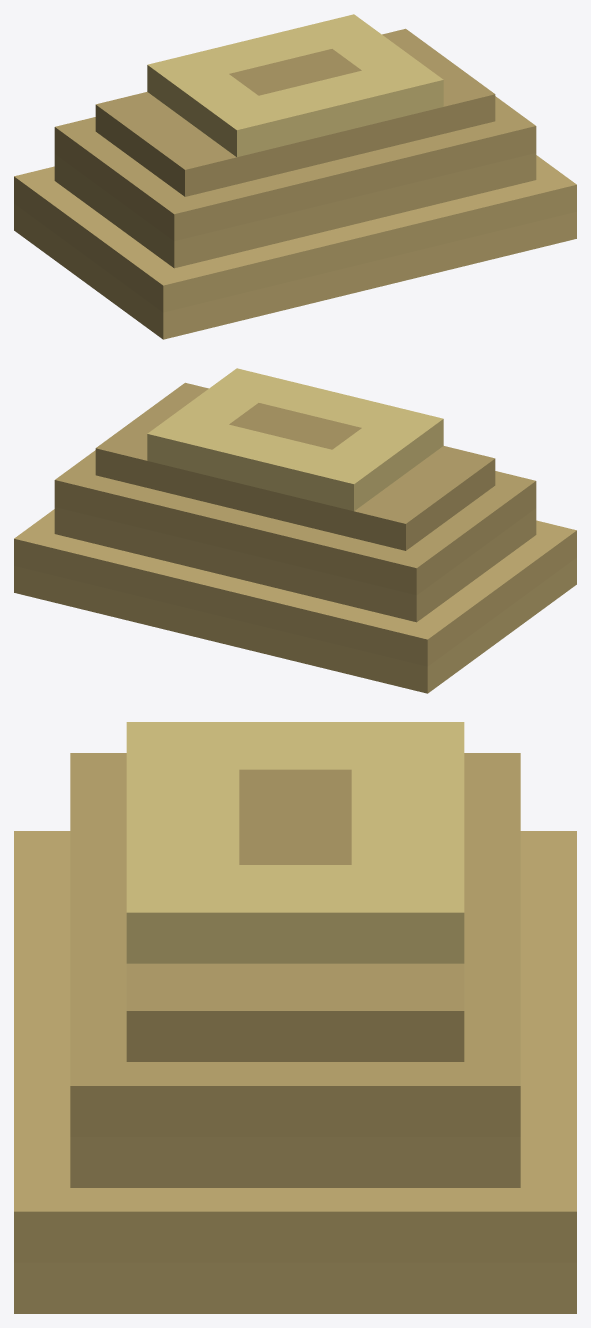
File: mat_gold.glb
The picture shows the model from 3 angles, top to bottom: view 1: azimuth 30°, elevation 25°; view 2: azimuth 150°, elevation 25°; view 3: azimuth 270°, elevation 25°; orthographic projection. The views are drawn at different scales.
Parts seen in each view (by area): view 1: mat_gold; view 2: mat_gold; view 3: mat_gold.
Boxes of the visible parts, x1,y1,x2,y2 form: mat_gold: (14,14,576,339); mat_gold: (14,368,576,693); mat_gold: (14,722,576,1313).
Bounding box in the file's own units: 0.192 × 0.072 × 0.12.
